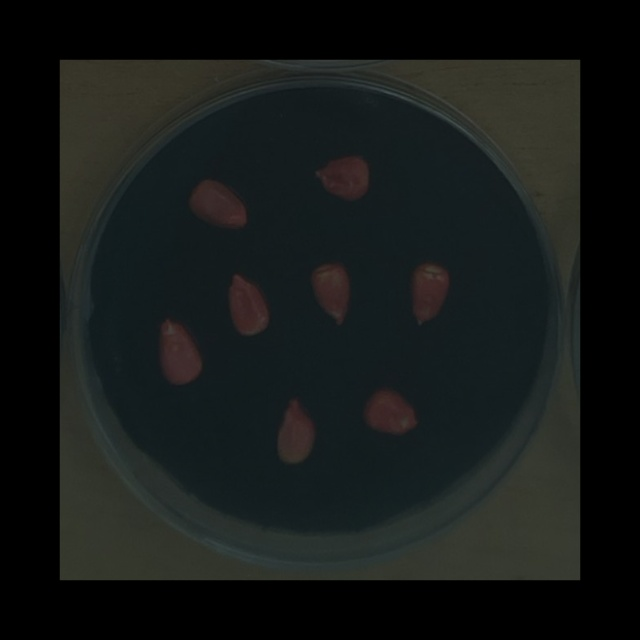Zea mays: (151, 313, 209, 390), (181, 173, 254, 234), (303, 255, 358, 333), (268, 393, 322, 472), (220, 268, 276, 343), (356, 384, 423, 441), (405, 257, 455, 333), (307, 151, 373, 207)
